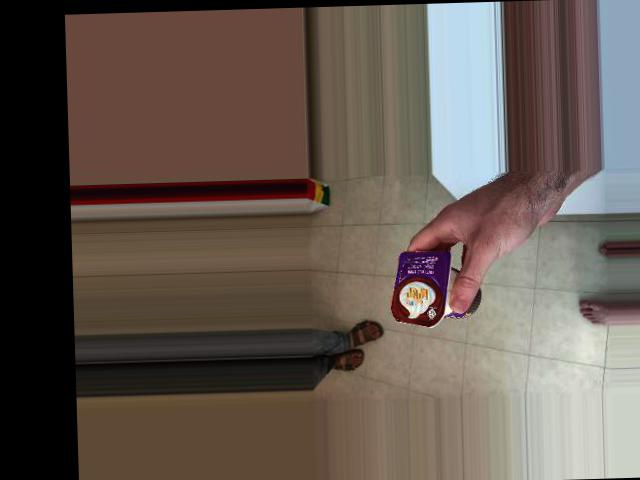milky: (383, 246, 496, 325)
